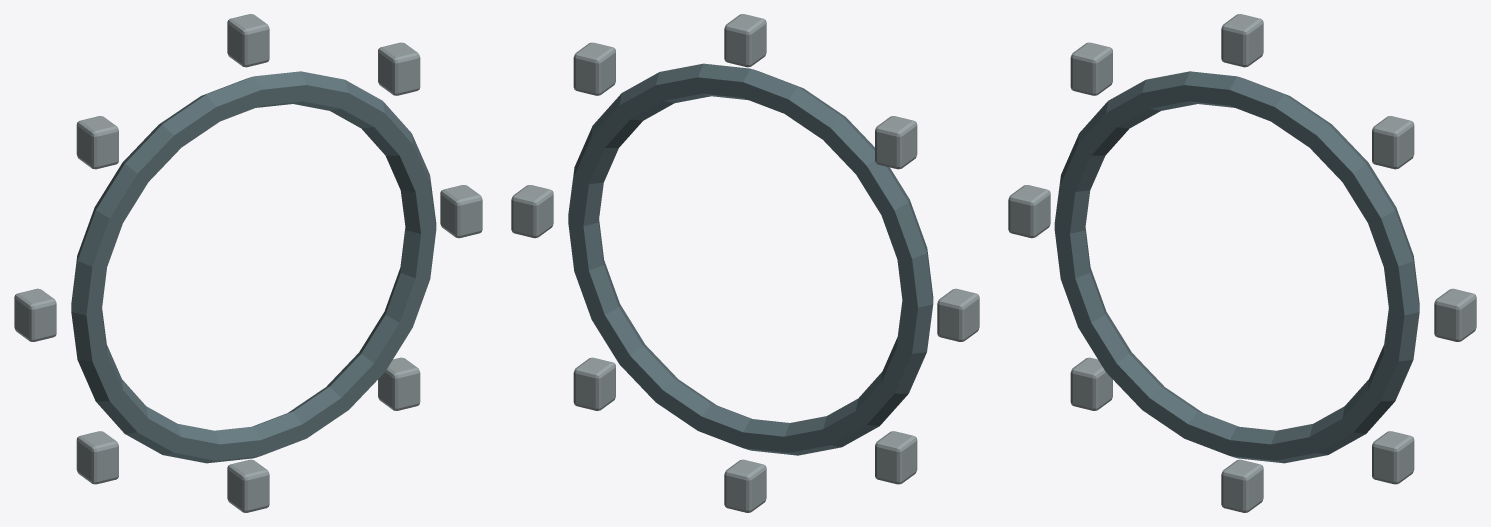
The model's file is ring.glb.
The picture shows the model from 3 angles, left to right: view 1: azimuth 30°, elevation 25°; view 2: azimuth 150°, elevation 25°; view 3: azimuth 330°, elevation 25°; orthographic projection.
Visible parts, largest first — view 1: Floating arch, Suspended fragment.001, Suspended fragment.005, Suspended fragment, Suspended fragment.002, Suspended fragment.003, Suspended fragment.004, Suspended fragment.006, Suspended fragment.007; view 2: Floating arch, Suspended fragment.001, Suspended fragment.005, Suspended fragment, Suspended fragment.002, Suspended fragment.003, Suspended fragment.004, Suspended fragment.006, Suspended fragment.007; view 3: Floating arch, Suspended fragment.003, Suspended fragment.007, Suspended fragment, Suspended fragment.001, Suspended fragment.002, Suspended fragment.004, Suspended fragment.006, Suspended fragment.005.
Boxes of the visible parts, x1,y1,x2,y2 form: Floating arch: [71, 71, 436, 463]; Suspended fragment.001: [378, 42, 420, 95]; Suspended fragment.005: [76, 431, 118, 484]; Suspended fragment: [440, 185, 482, 238]; Suspended fragment.002: [227, 14, 269, 67]; Suspended fragment.003: [76, 116, 118, 169]; Suspended fragment.004: [14, 288, 56, 341]; Suspended fragment.006: [227, 459, 269, 512]; Suspended fragment.007: [378, 357, 420, 410]; Floating arch: [568, 63, 933, 455]; Suspended fragment.001: [573, 42, 615, 95]; Suspended fragment.005: [875, 431, 917, 484]; Suspended fragment: [511, 185, 553, 238]; Suspended fragment.002: [724, 14, 766, 67]; Suspended fragment.003: [875, 116, 917, 169]; Suspended fragment.004: [937, 288, 979, 341]; Suspended fragment.006: [724, 459, 766, 512]; Suspended fragment.007: [573, 357, 615, 410]; Floating arch: [1054, 71, 1419, 463]; Suspended fragment.003: [1070, 42, 1112, 95]; Suspended fragment.007: [1372, 431, 1414, 484]; Suspended fragment: [1434, 288, 1476, 341]; Suspended fragment.001: [1372, 116, 1414, 169]; Suspended fragment.002: [1221, 14, 1263, 67]; Suspended fragment.004: [1008, 185, 1050, 238]; Suspended fragment.006: [1221, 459, 1263, 512]; Suspended fragment.005: [1070, 357, 1112, 410].
Bounding box in the file's own units: 2.98 × 3.04 × 0.2516.
